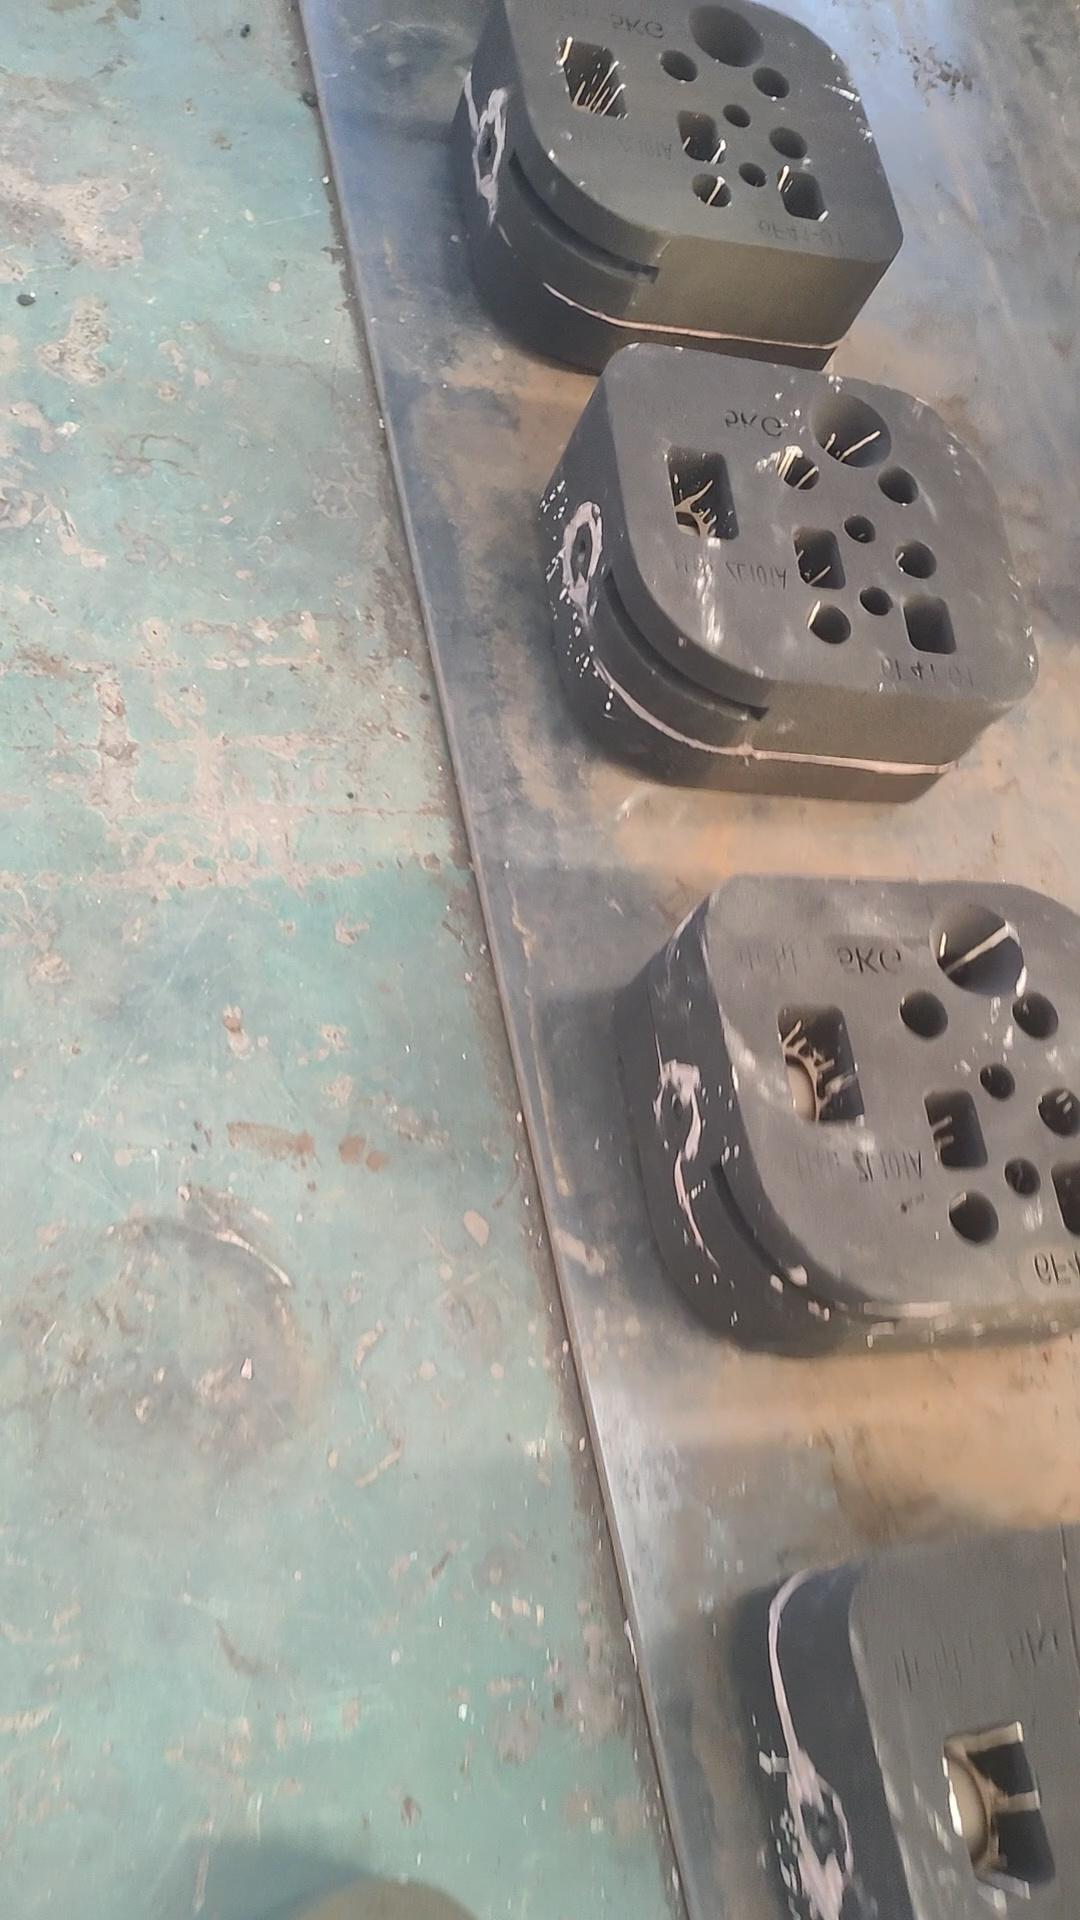pouring hole: (927, 901, 1026, 1001), (808, 392, 891, 469), (684, 4, 765, 69)
